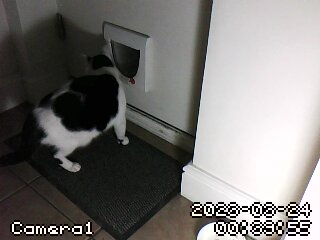bad: (14, 48, 134, 172)
